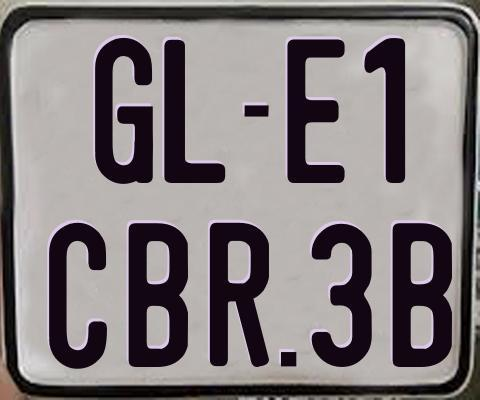1: (361, 37, 405, 185)
3: (312, 223, 373, 371)
B: (126, 220, 185, 369), (393, 223, 453, 367)
C: (47, 223, 106, 369)
E: (287, 38, 351, 187)
G: (95, 35, 155, 183)
L: (164, 38, 226, 181)
R: (207, 221, 268, 365)
